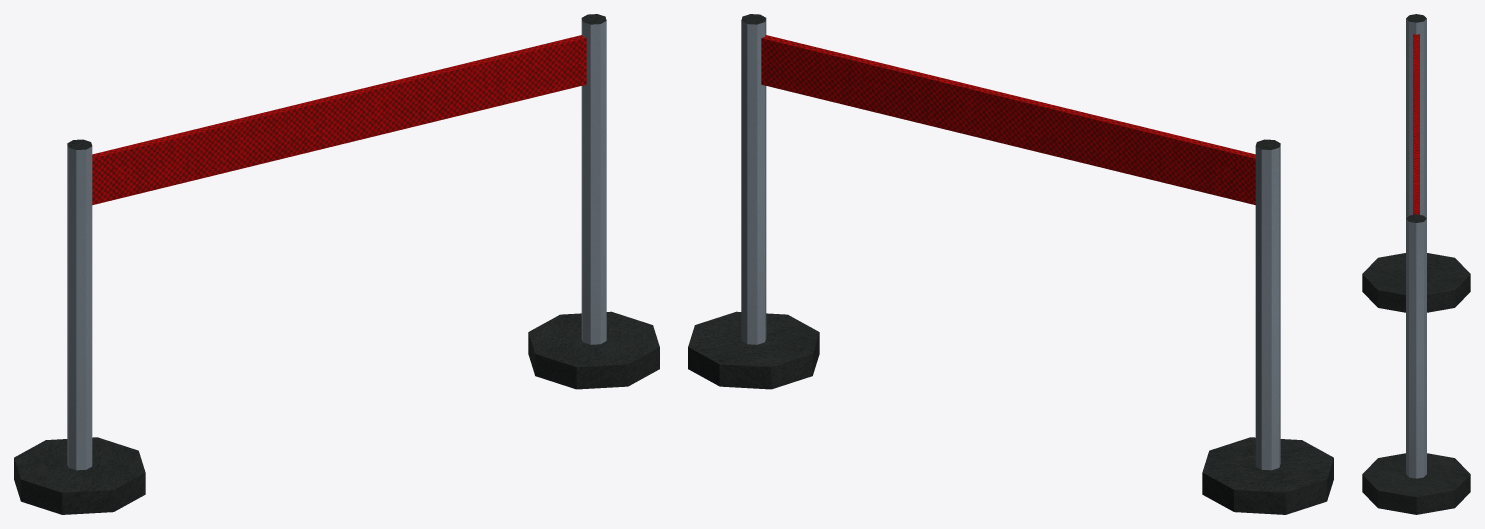
The model's file is NoPasar.fbx.
3 views of the same model, side by side, from view 1: azimuth 30°, elevation 25°; view 2: azimuth 150°, elevation 25°; view 3: azimuth 270°, elevation 25° (orthographic). The views are drawn at different scales.
Parts seen in each view (by area): view 1: NoPasar; view 2: NoPasar; view 3: NoPasar.
Part boxes in pixels (x1,y1,x2,y2): NoPasar: (14,14,659,514); NoPasar: (688,14,1333,514); NoPasar: (1362,14,1470,514).
Size of the model in its own units: 187 by 96.9 by 34.91.
